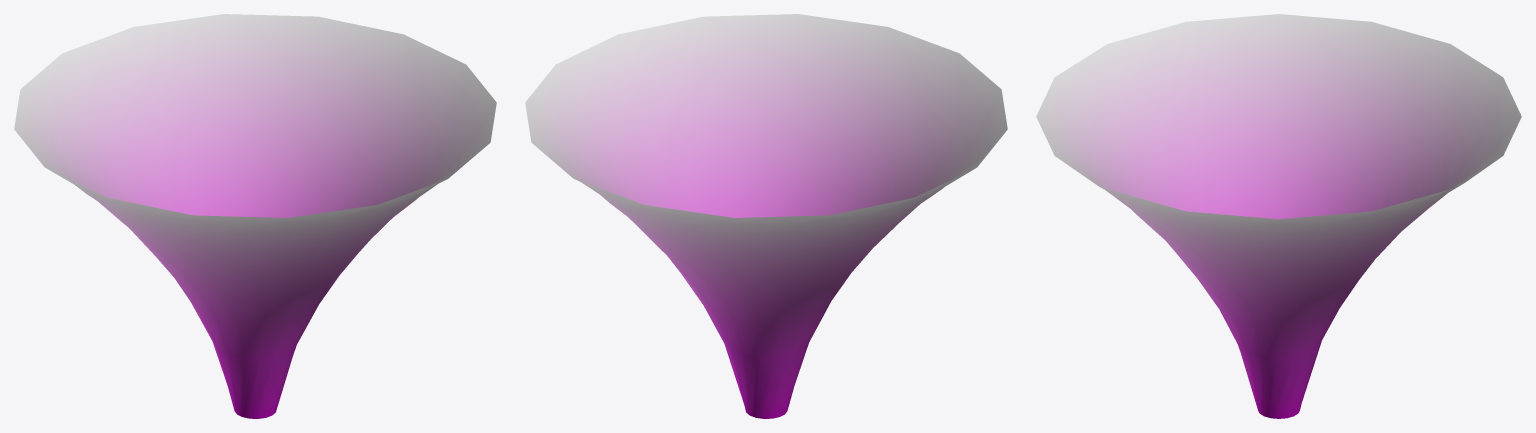
File: MS_Vortex.fbx
3 views of the same model, side by side, from view 1: azimuth 30°, elevation 25°; view 2: azimuth 150°, elevation 25°; view 3: azimuth 270°, elevation 25° (orthographic).
Parts seen in each view (by area): view 1: transform1; view 2: transform1; view 3: transform1.
Boxes of the visible parts, x1,y1,x2,y2 form: transform1: [14, 14, 496, 418]; transform1: [525, 14, 1007, 418]; transform1: [1036, 14, 1521, 418].
Bounding box in the file's own units: 300 × 200 × 300.
